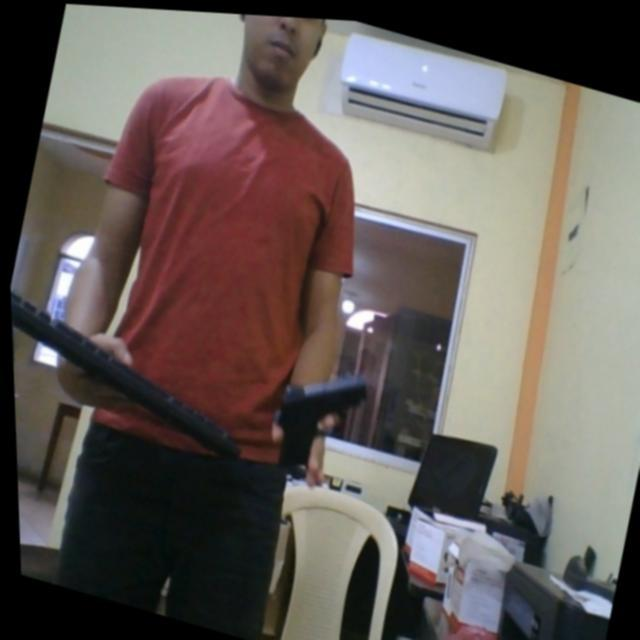weapon: (248, 344, 373, 494)
